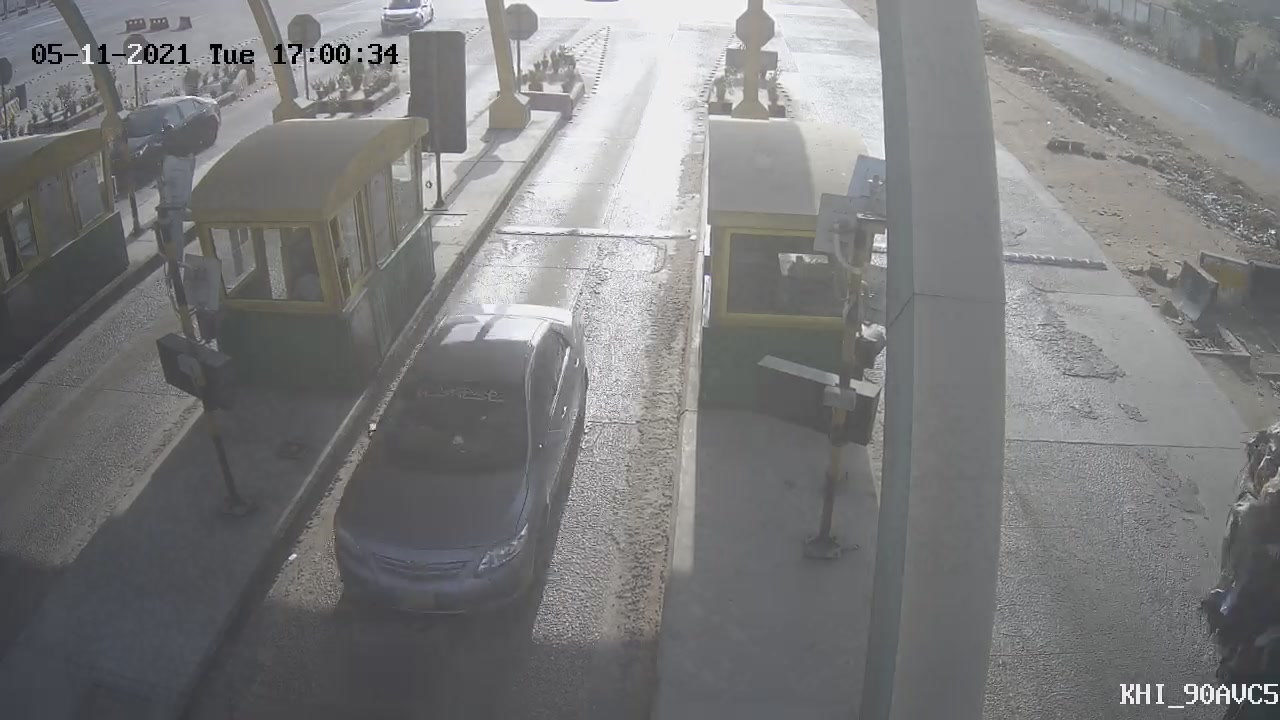F1: (321, 287, 604, 635)
